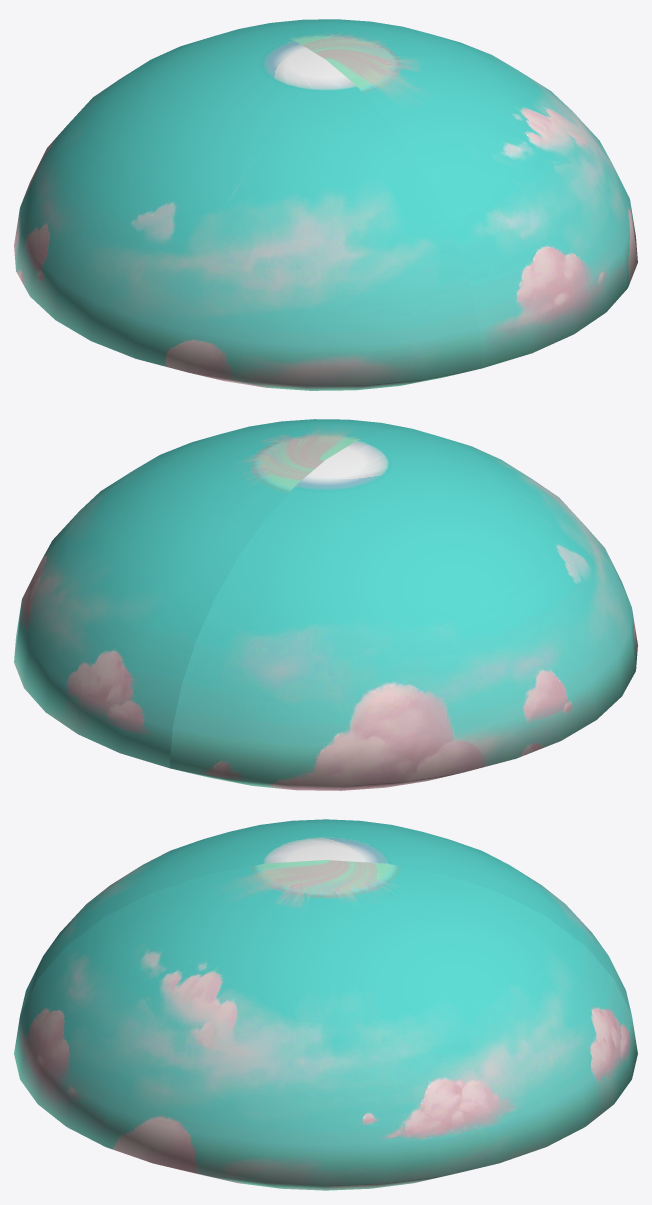
The model's file is fondo fondoso.fbx.
The picture shows the model from 3 angles, top to bottom: view 1: azimuth 30°, elevation 25°; view 2: azimuth 150°, elevation 25°; view 3: azimuth 270°, elevation 25°; orthographic projection.
Parts seen in each view (by area): view 1: sky_tgsd.001; view 2: sky_tgsd.001; view 3: sky_tgsd.001.
Boxes of the visible parts, left/top/right/bottom form: sky_tgsd.001: left=14, top=19, right=637, bottom=390; sky_tgsd.001: left=14, top=419, right=637, bottom=790; sky_tgsd.001: left=14, top=819, right=637, bottom=1190.
Size of the model in its own units: 168 by 79.05 by 168.
